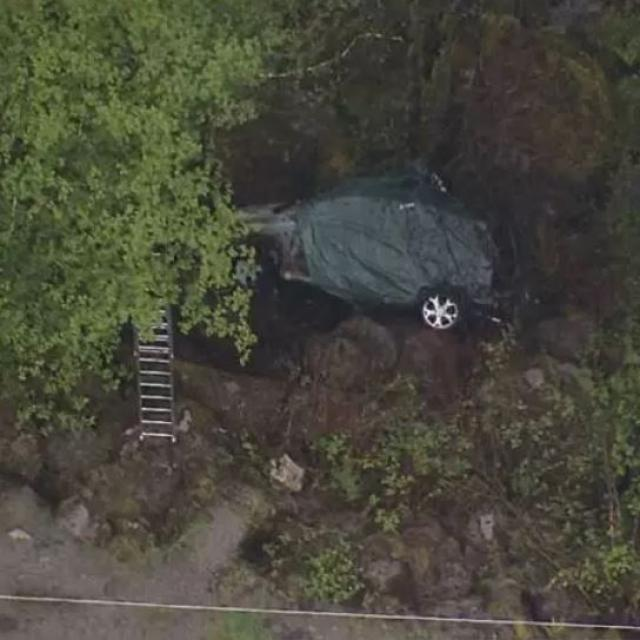traffic_incident: (189, 136, 536, 337)
